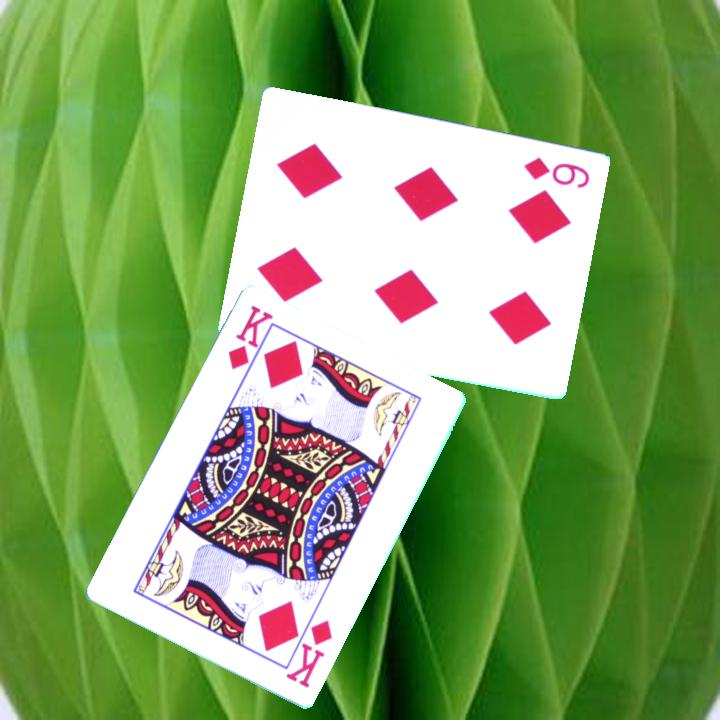6d: (520, 154, 592, 191)
Kd: (282, 610, 336, 692), (224, 302, 274, 373)
